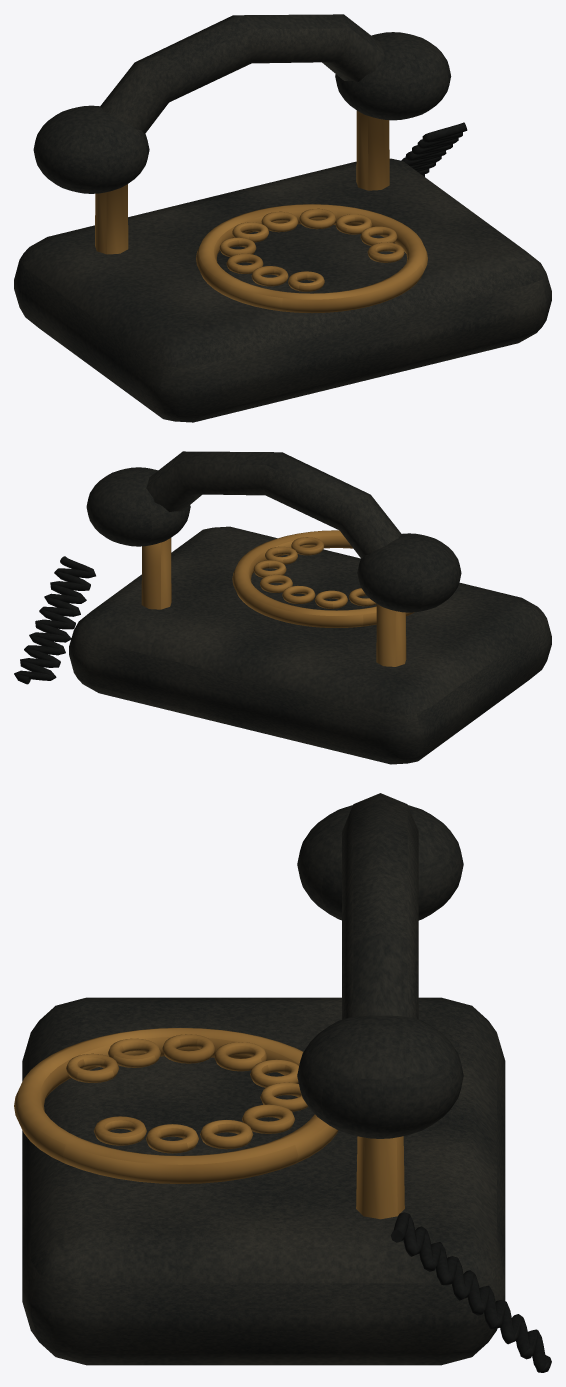
The model's file is Telephone.fbx.
3 views of the same model, one above another, from view 1: azimuth 30°, elevation 25°; view 2: azimuth 150°, elevation 25°; view 3: azimuth 270°, elevation 25° (orthographic). The views are drawn at different scales.
Parts seen in each view (by area): view 1: Telephone_Iron, Telephone_Brass, Telephone_Rubber; view 2: Telephone_Iron, Telephone_Brass, Telephone_Rubber; view 3: Telephone_Iron, Telephone_Brass, Telephone_Rubber.
Part boxes in pixels (x1,y1,x2,y2): Telephone_Iron: [14, 14, 551, 422]; Telephone_Brass: [95, 110, 427, 313]; Telephone_Rubber: [401, 122, 467, 176]; Telephone_Iron: [69, 451, 551, 764]; Telephone_Brass: [141, 530, 414, 666]; Telephone_Rubber: [14, 556, 95, 684]; Telephone_Iron: [22, 793, 505, 1365]; Telephone_Brass: [14, 1027, 404, 1219]; Telephone_Rubber: [390, 1212, 551, 1372].
Bounding box in the file's own units: 43.2 × 27.55 × 32.3.
